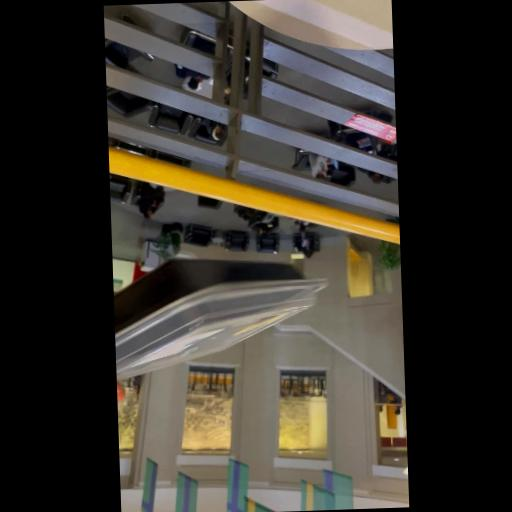rigid_plastic_container: (114, 258, 330, 391)
